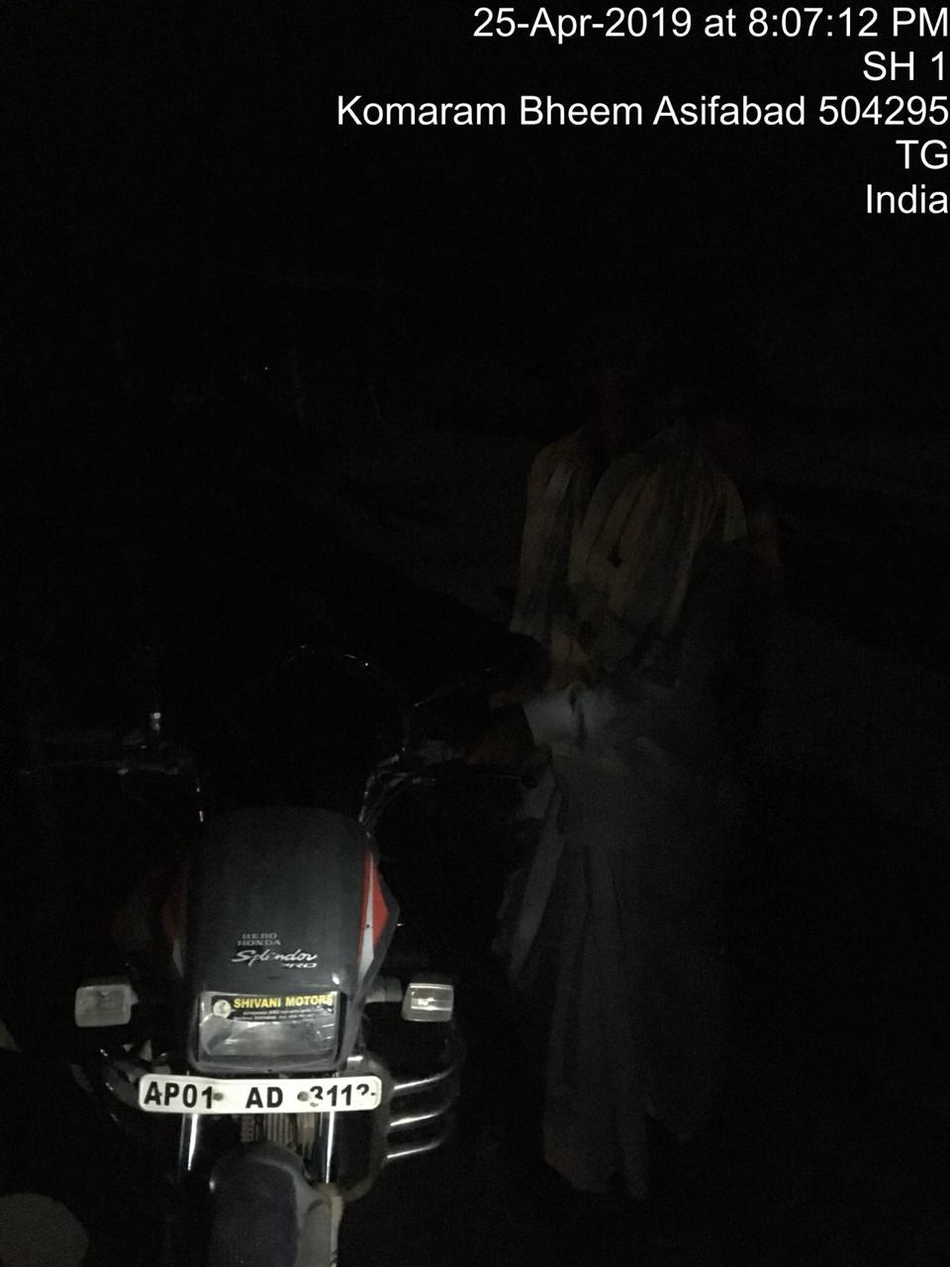plate: (98, 1056, 397, 1142)
